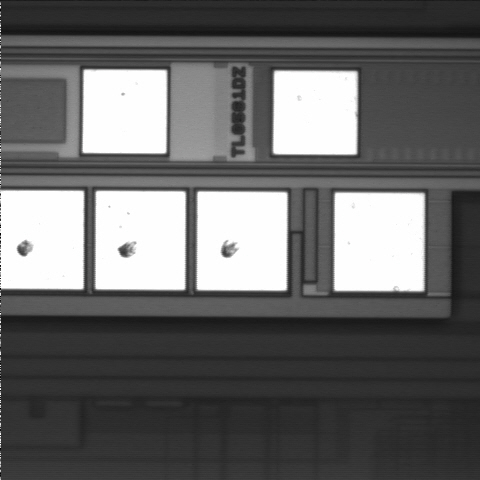pad: (197, 192, 287, 290), (334, 193, 424, 291), (96, 191, 185, 290), (83, 70, 167, 153), (273, 71, 357, 154)
